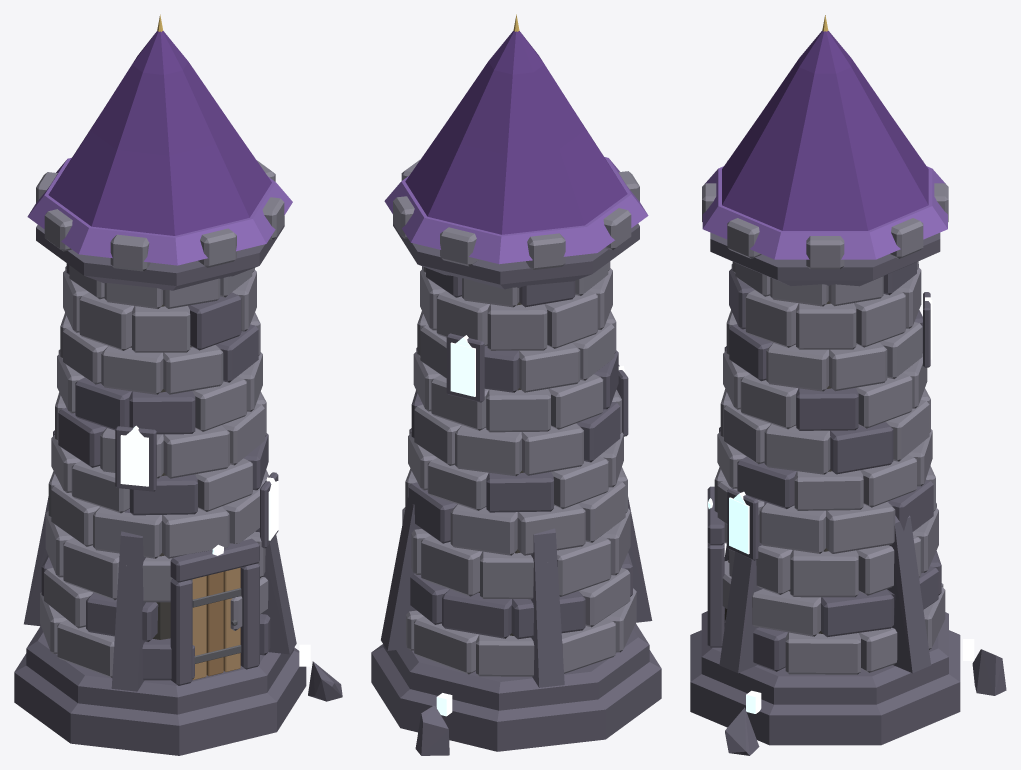
The model's file is mage_tower_2.glb.
The picture shows the model from 3 angles, left to right: view 1: azimuth 30°, elevation 25°; view 2: azimuth 150°, elevation 25°; view 3: azimuth 270°, elevation 25°; orthographic projection.
Visible parts, largest first — view 1: MageTower; view 2: MageTower; view 3: MageTower.
Part boxes in pixels (bbox=[...]): MageTower: bbox=[14, 14, 342, 755]; MageTower: bbox=[371, 14, 661, 755]; MageTower: bbox=[690, 15, 1006, 755].
Bounding box in the file's own units: 3.15 × 7.9 × 3.36.
